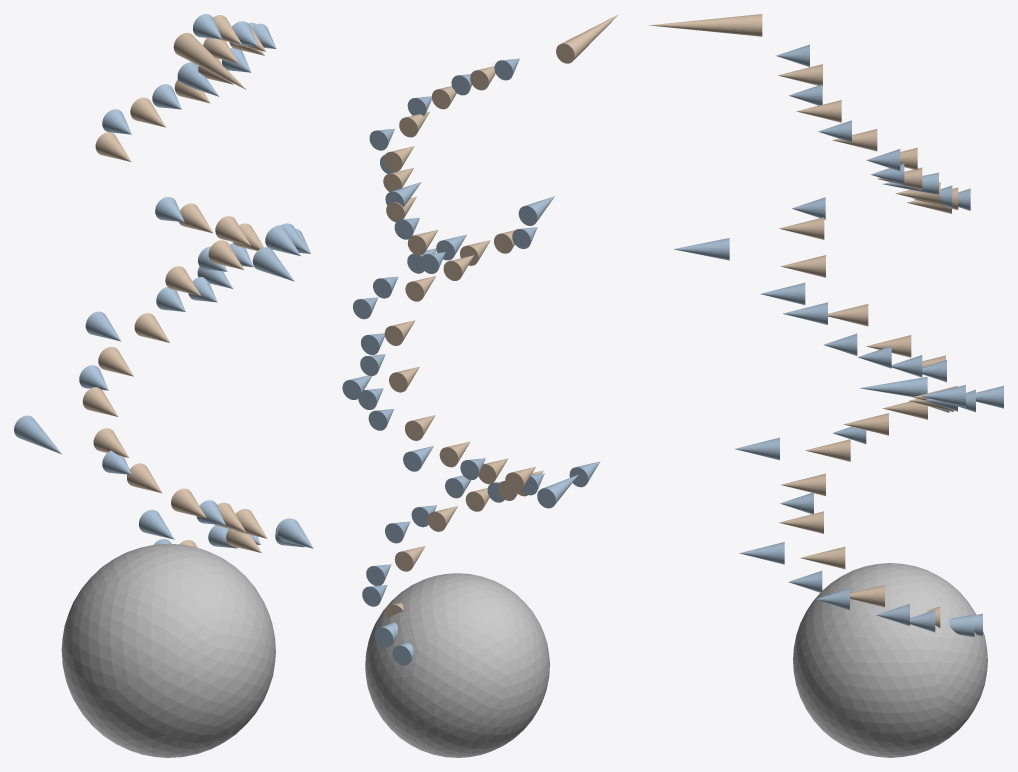
The model's file is commit_sculpture_crystalline.glb.
3 views of the same model, side by side, from view 1: azimuth 30°, elevation 25°; view 2: azimuth 150°, elevation 25°; view 3: azimuth 270°, elevation 25° (orthographic). The views are drawn at different scales.
Visible parts, largest first — view 1: world; view 2: world; view 3: world.
Boxes of the visible parts, bbox=[...] form: world: bbox=[14, 14, 313, 757]; world: bbox=[342, 14, 618, 757]; world: bbox=[649, 14, 1003, 757].
Bounding box in the file's own units: 11.74 × 34.27 × 15.57.
